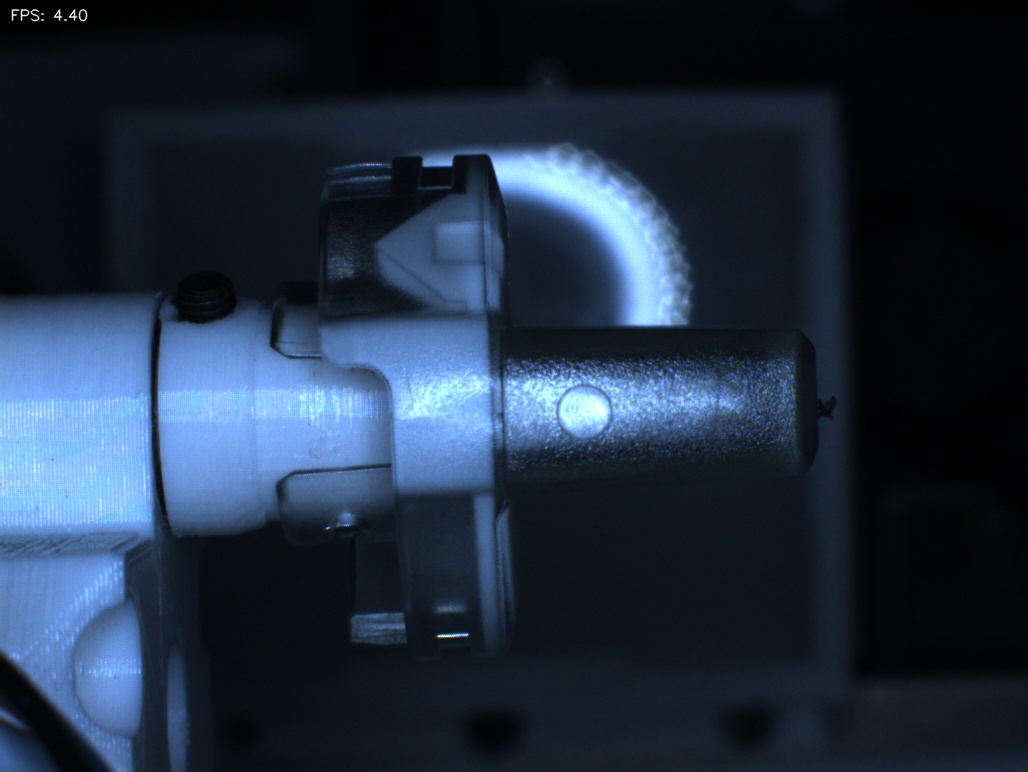DentOk: (342, 218, 416, 306)
